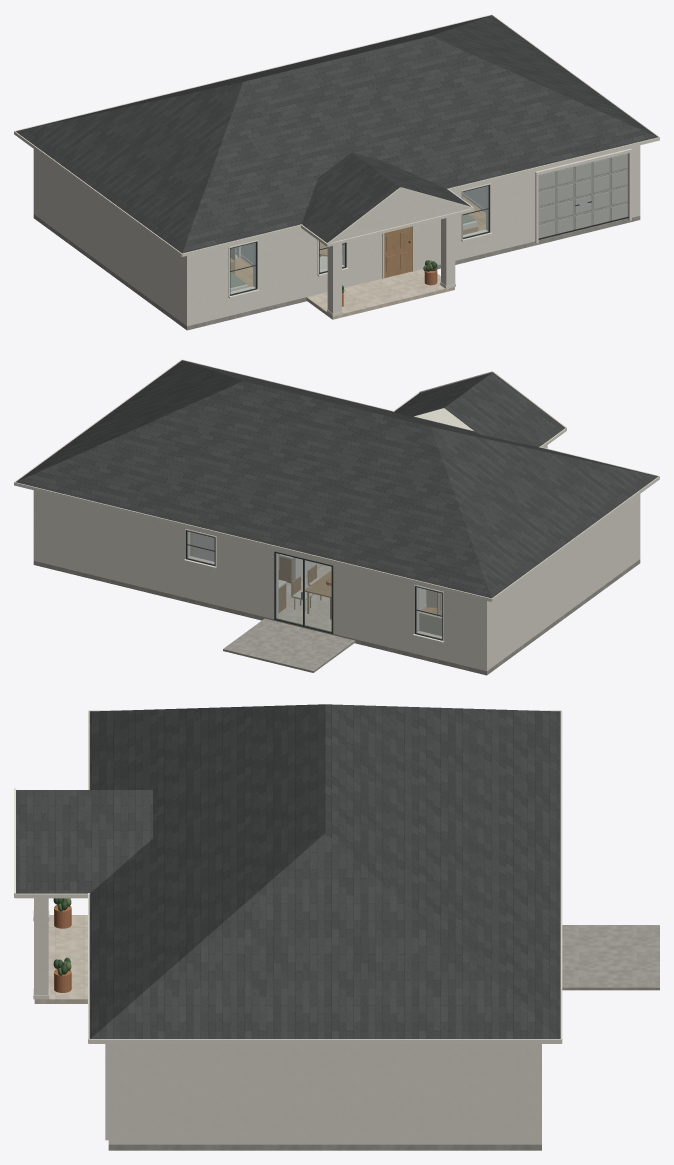
File: bell-finished-v4.glb
3 views of the same model, one above another, from view 1: azimuth 30°, elevation 25°; view 2: azimuth 150°, elevation 25°; view 3: azimuth 270°, elevation 25° (orthographic). The views are drawn at different scales.
Parts seen in each view (by area): view 1: 90 Cubierta principal · ocultable, 10 Fachada delantera, 12 Fachada izquierda, Garaje · paneles seccionales y herrajes (×3), 92 Cubierta porche · ocultable, 91 Fascia principal · ocultable, 01 Porche de entrada, 93 Tímpano porche · ocultable, 41 Vidrios, 00 Losa principal, 50 Columnas porche, 45 Acceso principal (+3 smaller); view 2: 90 Cubierta principal · ocultable, 11 Fachada posterior, 12 Fachada izquierda, 92 Cubierta porche · ocultable, 41 Vidrios, 02 Patio posterior 10 × 8 pies, 91 Fascia principal · ocultable, 00 Losa principal, 03 Piso interior, 64 Comedor · mobiliario, 44 Puerta corrediza posterior, 65 Cocina · mobiliario (+4 smaller); view 3: 90 Cubierta principal · ocultable, 13 Fachada derecha, 92 Cubierta porche · ocultable, 02 Patio posterior 10 × 8 pies, 91 Fascia principal · ocultable, 00 Losa principal, 01 Porche de entrada, 50 Columnas porche, 71 Macetas de porche, 10 Fachada delantera, 11 Fachada posterior, 95 Fascia porche · ocultable.
Part boxes in pixels (x1=…): 90 Cubierta principal · ocultable: x1=16, y1=15, x2=657, y2=253; 10 Fachada delantera: x1=183, y1=145, x2=640, y2=326; 12 Fachada izquierda: x1=37, y1=151, x2=183, y2=323; Garaje · paneles seccionales y herrajes (×3): x1=535, y1=148, x2=631, y2=243; 92 Cubierta porche · ocultable: x1=302, y1=152, x2=470, y2=242; 91 Fascia principal · ocultable: x1=14, y1=14, x2=659, y2=256; 01 Porche de entrada: x1=306, y1=269, x2=454, y2=319; 93 Tímpano porche · ocultable: x1=332, y1=189, x2=469, y2=242; 41 Vidrios: x1=230, y1=186, x2=488, y2=294; 00 Losa principal: x1=33, y1=214, x2=640, y2=330; 50 Columnas porche: x1=327, y1=216, x2=455, y2=316; 45 Acceso principal: x1=382, y1=226, x2=413, y2=278; 90 Cubierta principal · ocultable: x1=16, y1=360, x2=657, y2=598; 11 Fachada posterior: x1=33, y1=490, x2=490, y2=671; 12 Fachada izquierda: x1=490, y1=496, x2=636, y2=668; 92 Cubierta porche · ocultable: x1=394, y1=372, x2=564, y2=447; 41 Vidrios: x1=187, y1=531, x2=441, y2=638; 02 Patio posterior 10 × 8 pies: x1=223, y1=618, x2=355, y2=672; 91 Fascia principal · ocultable: x1=14, y1=359, x2=659, y2=601; 00 Losa principal: x1=33, y1=559, x2=640, y2=675; 03 Piso interior: x1=277, y1=565, x2=331, y2=631; 64 Comedor · mobiliario: x1=291, y1=564, x2=331, y2=619; 44 Puerta corrediza posterior: x1=274, y1=551, x2=333, y2=633; 65 Cocina · mobiliario: x1=190, y1=532, x2=292, y2=612; 90 Cubierta principal · ocultable: x1=89, y1=704, x2=560, y2=1038; 13 Fachada derecha: x1=118, y1=1044, x2=531, y2=1144; 92 Cubierta porche · ocultable: x1=16, y1=790, x2=152, y2=893; 02 Patio posterior 10 × 8 pies: x1=562, y1=925, x2=659, y2=990; 91 Fascia principal · ocultable: x1=88, y1=710, x2=562, y2=1043; 00 Losa principal: x1=108, y1=1144, x2=541, y2=1150; 01 Porche de entrada: x1=34, y1=915, x2=87, y2=1003; 50 Columnas porche: x1=33, y1=898, x2=49, y2=999; 71 Macetas de porche: x1=53, y1=898, x2=71, y2=992; 10 Fachada delantera: x1=108, y1=1044, x2=118, y2=1144; 11 Fachada posterior: x1=532, y1=1044, x2=541, y2=1144; 95 Fascia porche · ocultable: x1=14, y1=788, x2=89, y2=898.
Bounding box in the file's own units: 16.08 × 5.14 × 13.33.
Materials: 28 (9 with a texture image).
